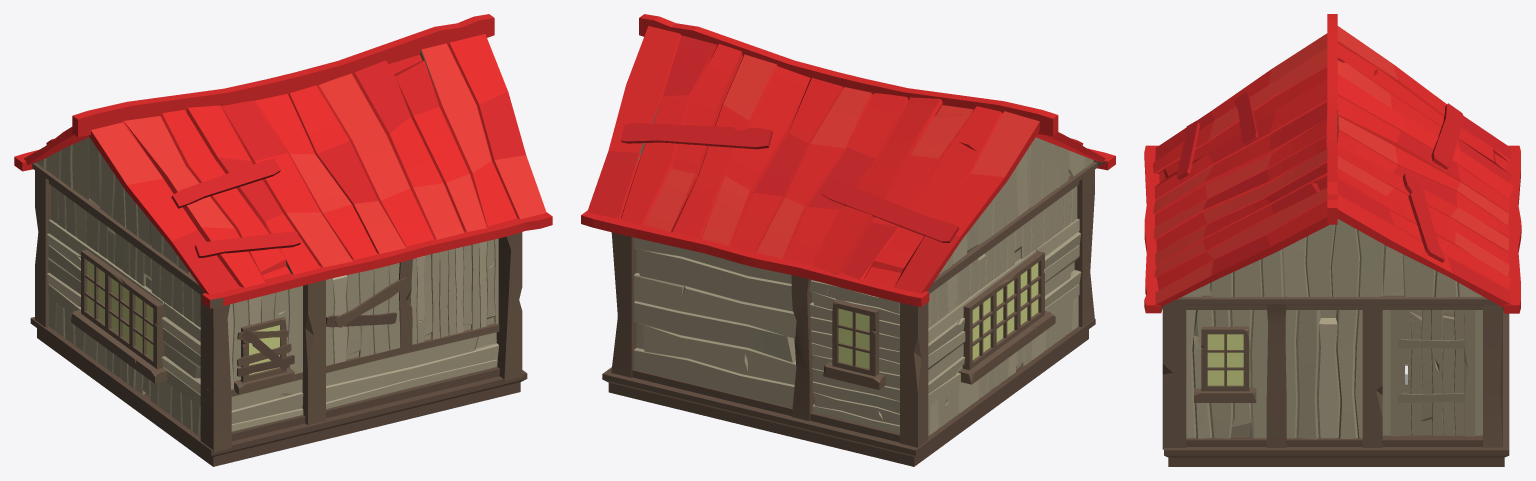
Rendered from redhouse.fbx.
3 views of the same model, side by side, from view 1: azimuth 30°, elevation 25°; view 2: azimuth 150°, elevation 25°; view 3: azimuth 270°, elevation 25° (orthographic). The views are drawn at different scales.
Parts seen in each view (by area): view 1: House_1_Roof.001, House.001; view 2: House_1_Roof.001, House.001; view 3: House_1_Roof.001, House.001.
Part boxes in pixels (x1,y1,x2,y2): House_1_Roof.001: [14, 14, 552, 308]; House.001: [30, 170, 527, 466]; House_1_Roof.001: [581, 14, 1115, 306]; House.001: [602, 170, 1095, 466]; House_1_Roof.001: [1144, 14, 1521, 313]; House.001: [1162, 304, 1509, 466].
Bounding box in the file's own units: 573 × 395 × 471.
